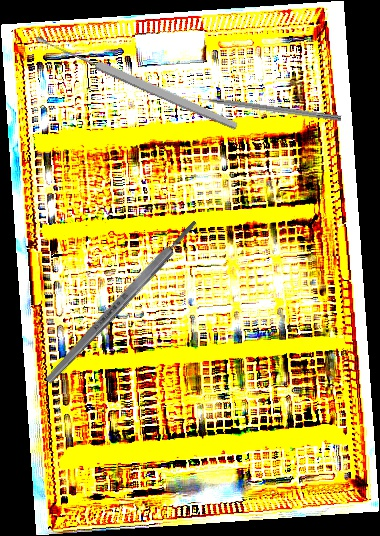Hook Surgical: (184, 92, 342, 122)
Scalpel Handle: (42, 217, 201, 386)
Surgical Spoon: (33, 31, 240, 133)
